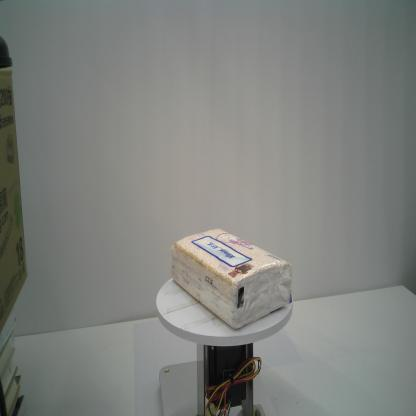Tissue: (168, 228, 292, 329)
